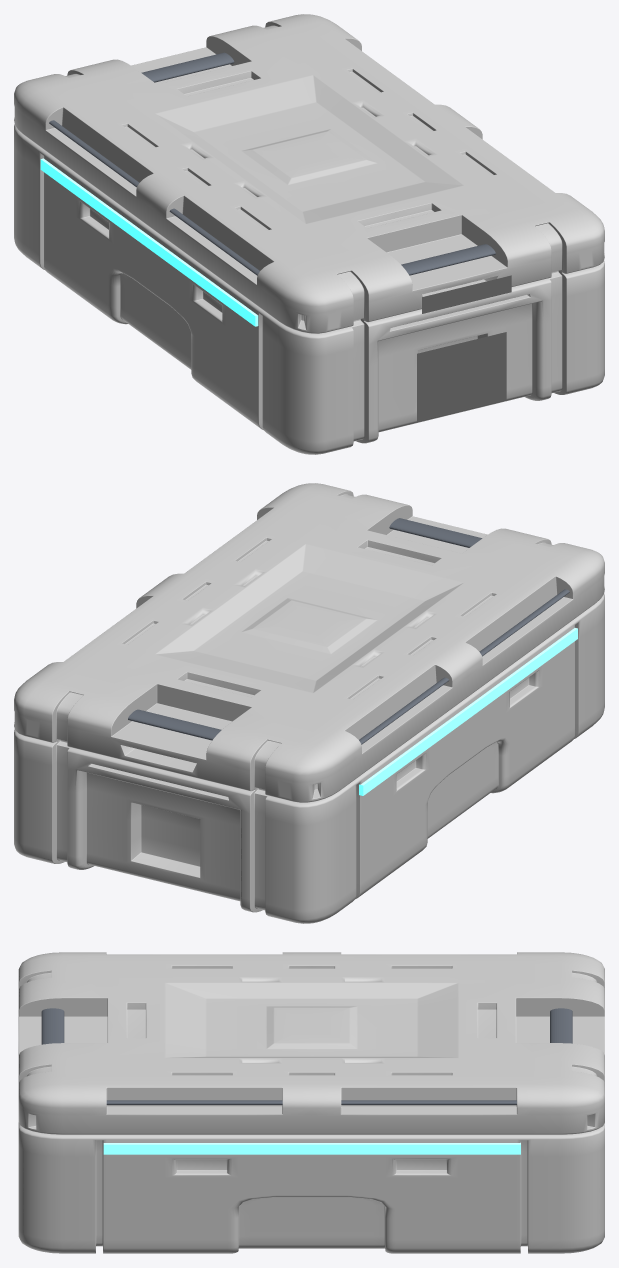
File: Space_Crate_FBX.fbx
3 views of the same model, one above another, from view 1: azimuth 30°, elevation 25°; view 2: azimuth 150°, elevation 25°; view 3: azimuth 270°, elevation 25° (orthographic). The views are drawn at different scales.
Parts seen in each view (by area): view 1: Crate.001, Grates, Top_Handles_Make_Emissive, Crate_Side_Left_Make_Emissive; view 2: Crate.001, Top_Handles_Make_Emissive, Crate_Side_Left_Make_Emissive; view 3: Crate.001, Crate_Side_Right_Make_Emissive, Top_Handles_Make_Emissive.
Boxes of the visible parts, x1,y1,x2,y2 form: Crate.001: (14, 14, 604, 454); Grates: (417, 275, 511, 421); Top_Handles_Make_Emissive: (49, 52, 495, 275); Crate_Side_Left_Make_Emissive: (40, 158, 258, 326); Crate.001: (14, 483, 604, 923); Top_Handles_Make_Emissive: (128, 518, 569, 744); Crate_Side_Left_Make_Emissive: (359, 628, 577, 795); Crate.001: (18, 952, 604, 1253); Crate_Side_Right_Make_Emissive: (103, 1142, 520, 1154); Top_Handles_Make_Emissive: (41, 1008, 572, 1104).
Size of the model in its own units: 768 by 387 by 1254.
